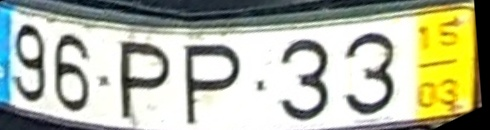3: (341, 30, 396, 117), (277, 36, 331, 124)
6: (52, 30, 92, 114)
9: (11, 21, 46, 105)
P: (181, 43, 242, 127), (119, 38, 173, 121)
